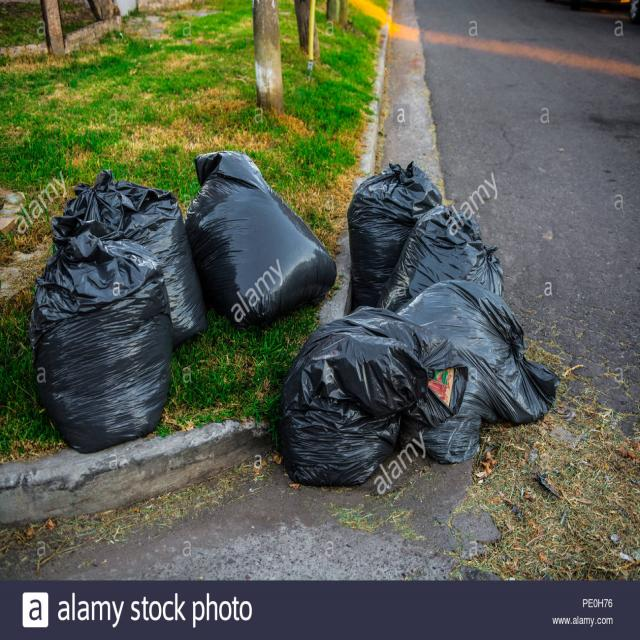plastic_bag: (41, 247, 176, 460), (204, 170, 334, 305), (289, 321, 408, 460), (359, 183, 460, 317), (75, 175, 191, 258)
